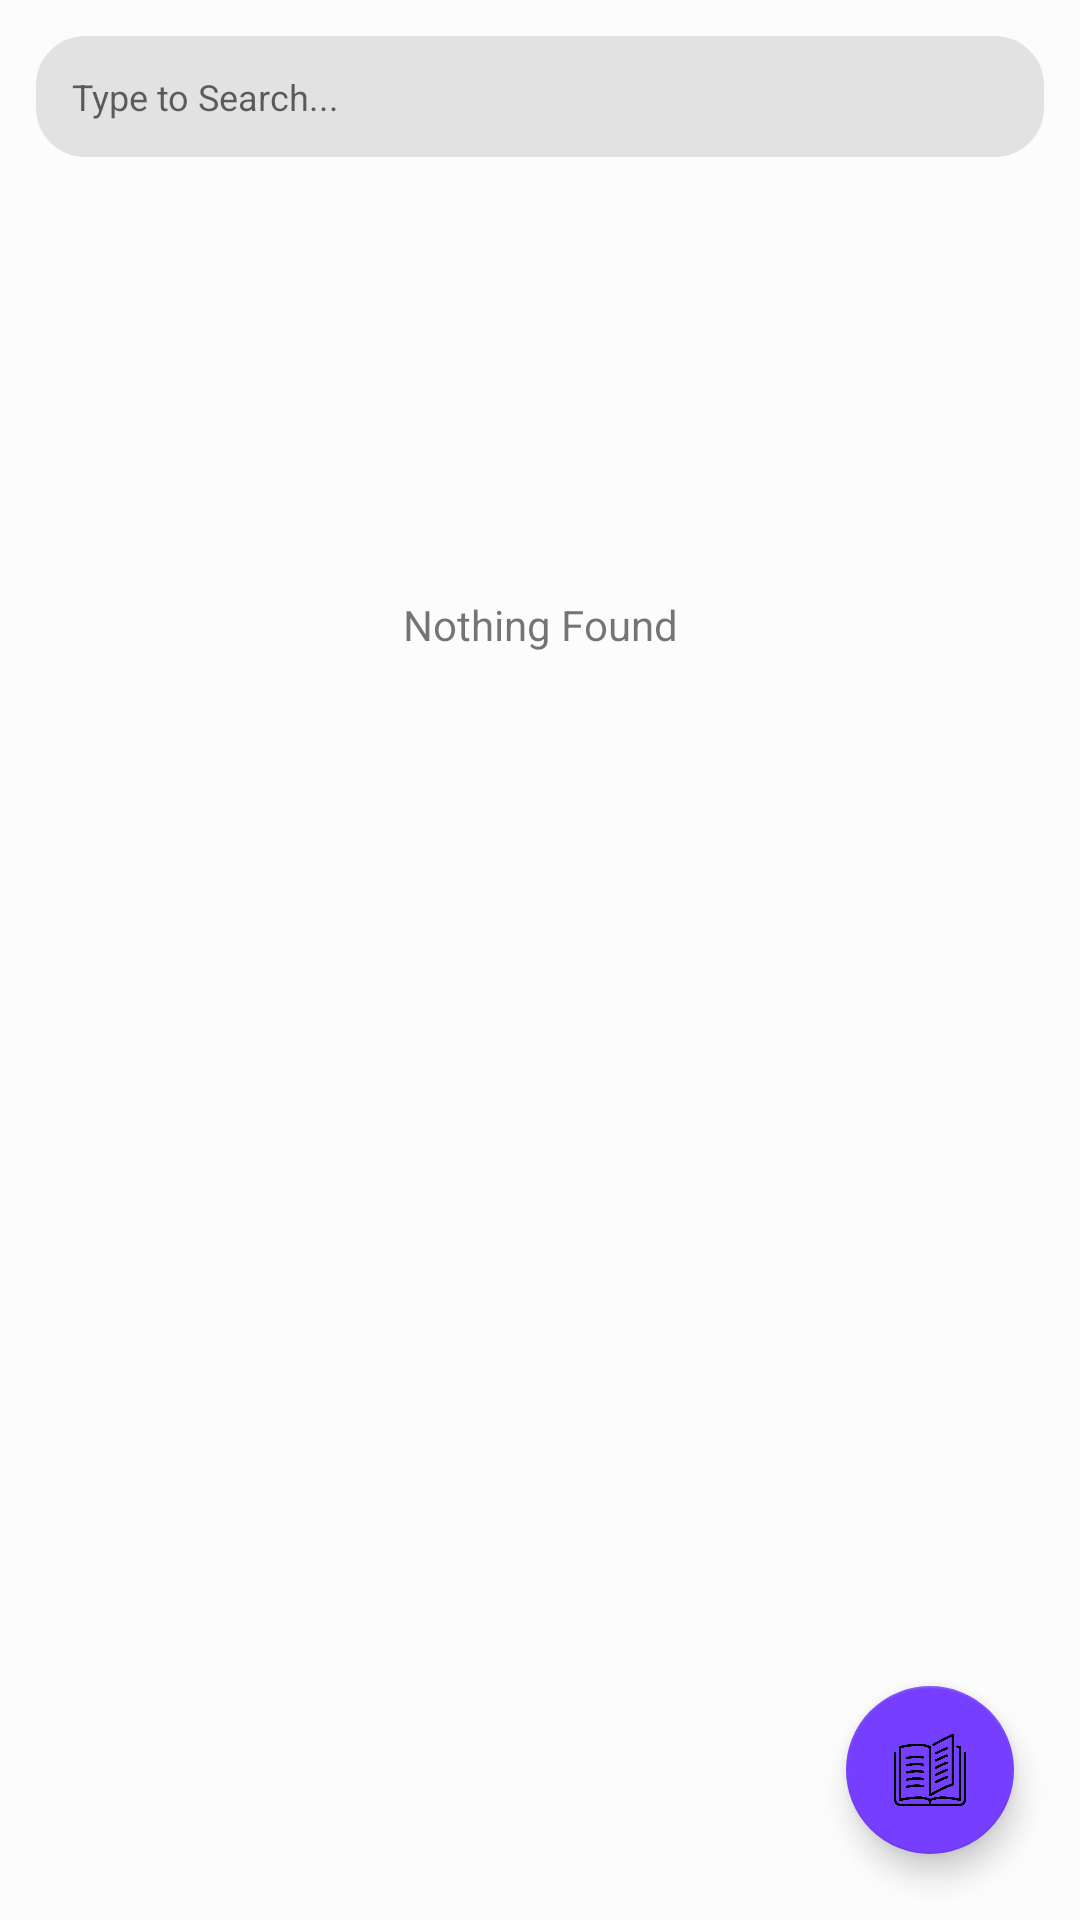

Point at icon controls on the screen. Image size 1080 × 1920, points as [x,y].
guide: [930,1770]
